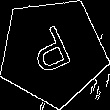P_SE: (26, 21, 80, 82)
